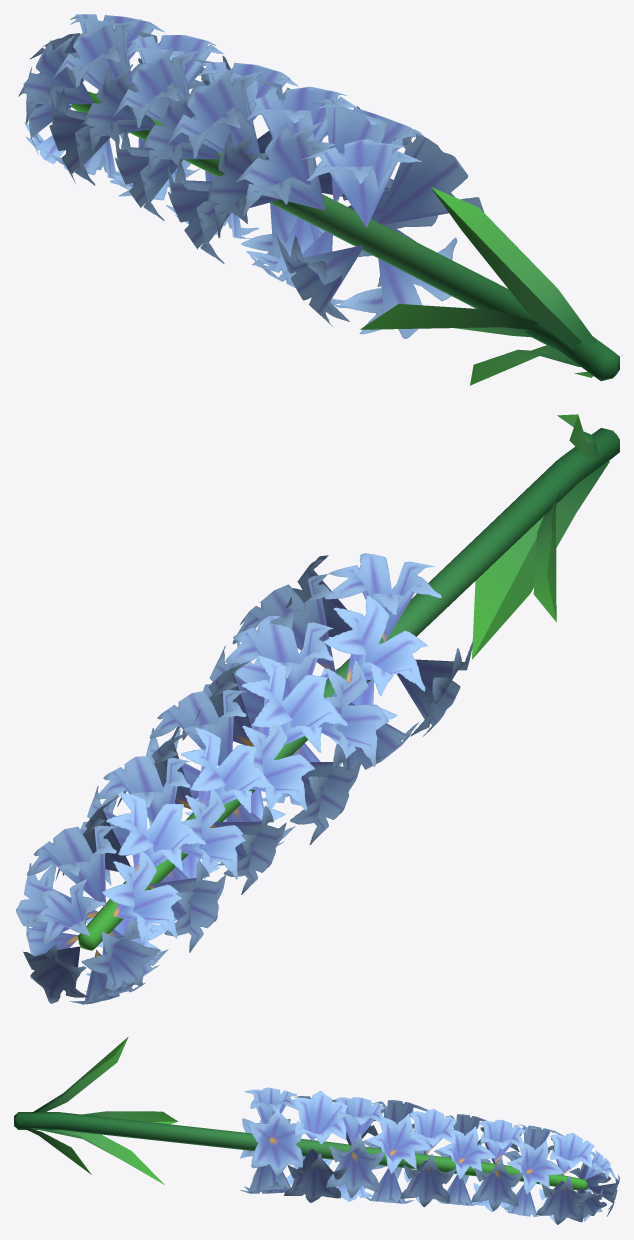
File: SM_Hyacinth_PastellBlue_Big.fbx
3 renders of one model, top to bottom at view 1: azimuth 30°, elevation 25°; view 2: azimuth 150°, elevation 25°; view 3: azimuth 270°, elevation 25°, orthographic. The views are drawn at different scales.
Visible parts, largest first — view 1: Hyacinth_PastellBlue_Big; view 2: Hyacinth_PastellBlue_Big; view 3: Hyacinth_PastellBlue_Big.
Boxes of the visible parts, left/top/right/bottom form: Hyacinth_PastellBlue_Big: left=18, top=14, right=619, bottom=385; Hyacinth_PastellBlue_Big: left=16, top=414, right=619, bottom=1004; Hyacinth_PastellBlue_Big: left=14, top=1037, right=619, bottom=1224.
Bounding box in the file's own units: 33.29 × 49.9 × 166.
